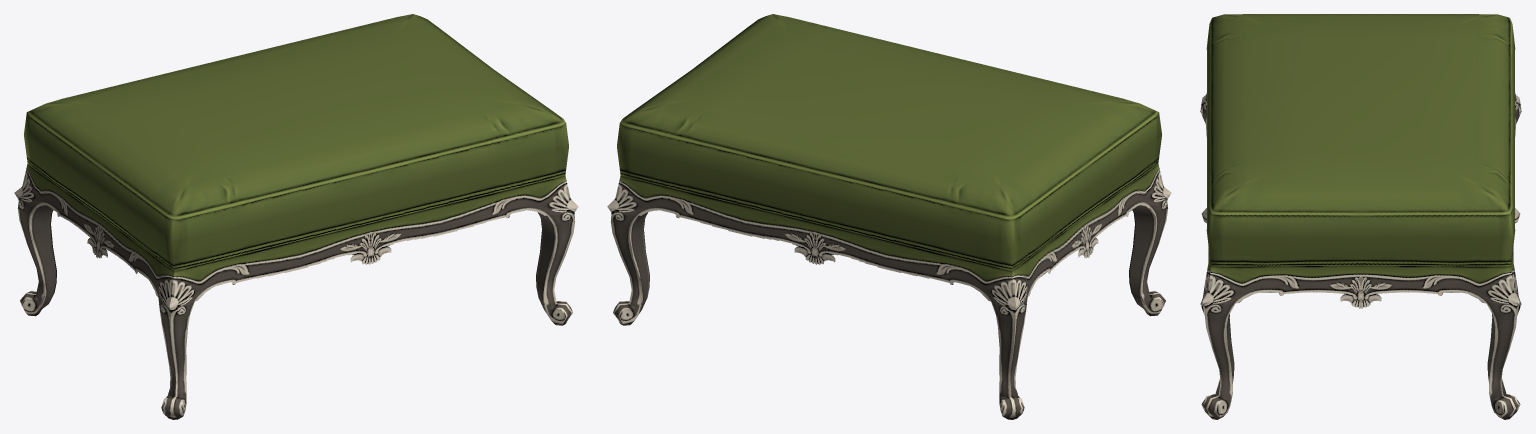
Rendered from Chair02.FBX.
The picture shows the model from 3 angles, left to right: view 1: azimuth 30°, elevation 25°; view 2: azimuth 150°, elevation 25°; view 3: azimuth 270°, elevation 25°; orthographic projection. The views are drawn at different scales.
Visible parts, largest first — view 1: Chair02; view 2: Chair02; view 3: Chair02.
Boxes of the visible parts, bbox=[...] form: Chair02: bbox=[14, 14, 578, 419]; Chair02: bbox=[607, 14, 1171, 419]; Chair02: bbox=[1200, 14, 1521, 419].
Bounding box in the file's own units: 115 × 75.63 × 59.33.
